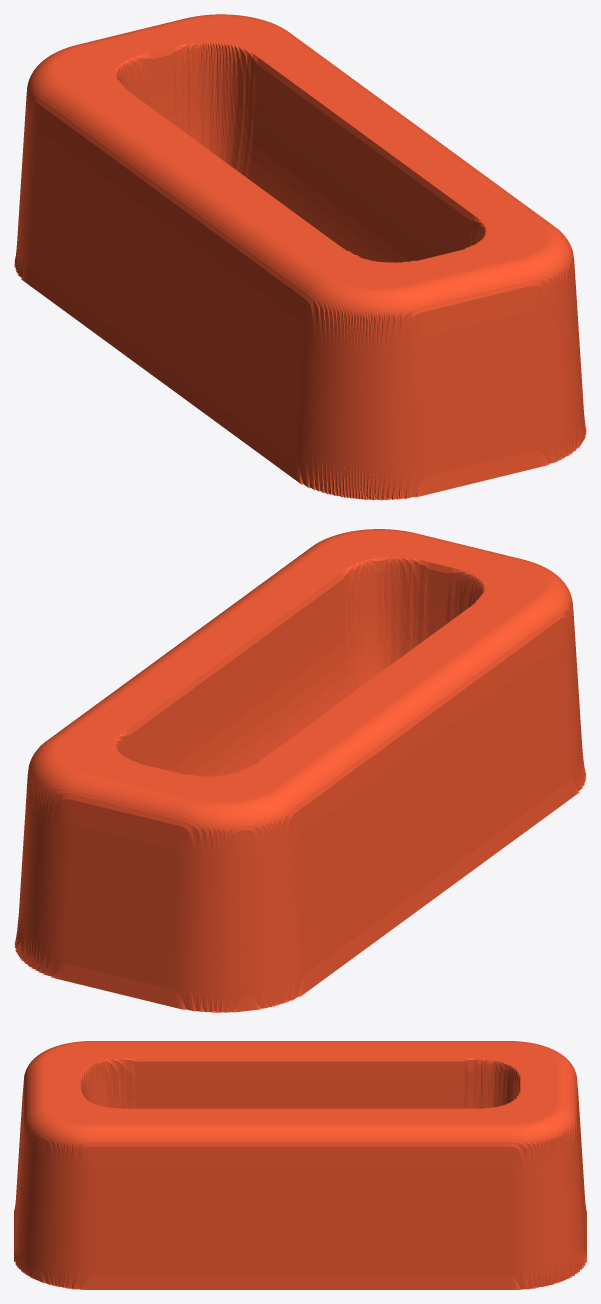
The model's file is mold.glb.
The picture shows the model from 3 angles, top to bottom: view 1: azimuth 30°, elevation 25°; view 2: azimuth 150°, elevation 25°; view 3: azimuth 270°, elevation 25°; orthographic projection. The views are drawn at different scales.
Parts seen in each view (by area): view 1: geometry_0; view 2: geometry_0; view 3: geometry_0.
Part boxes in pixels (x1,y1,x2,y2): geometry_0: (14,14,586,500); geometry_0: (14,529,586,1012); geometry_0: (14,1041,586,1289).
Bounding box in the file's own units: 0.0296 × 0.0197 × 0.067.
